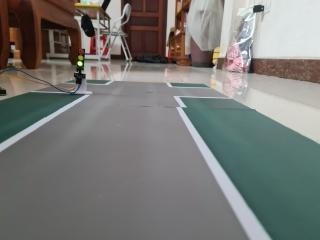green: (71, 44, 93, 74)
